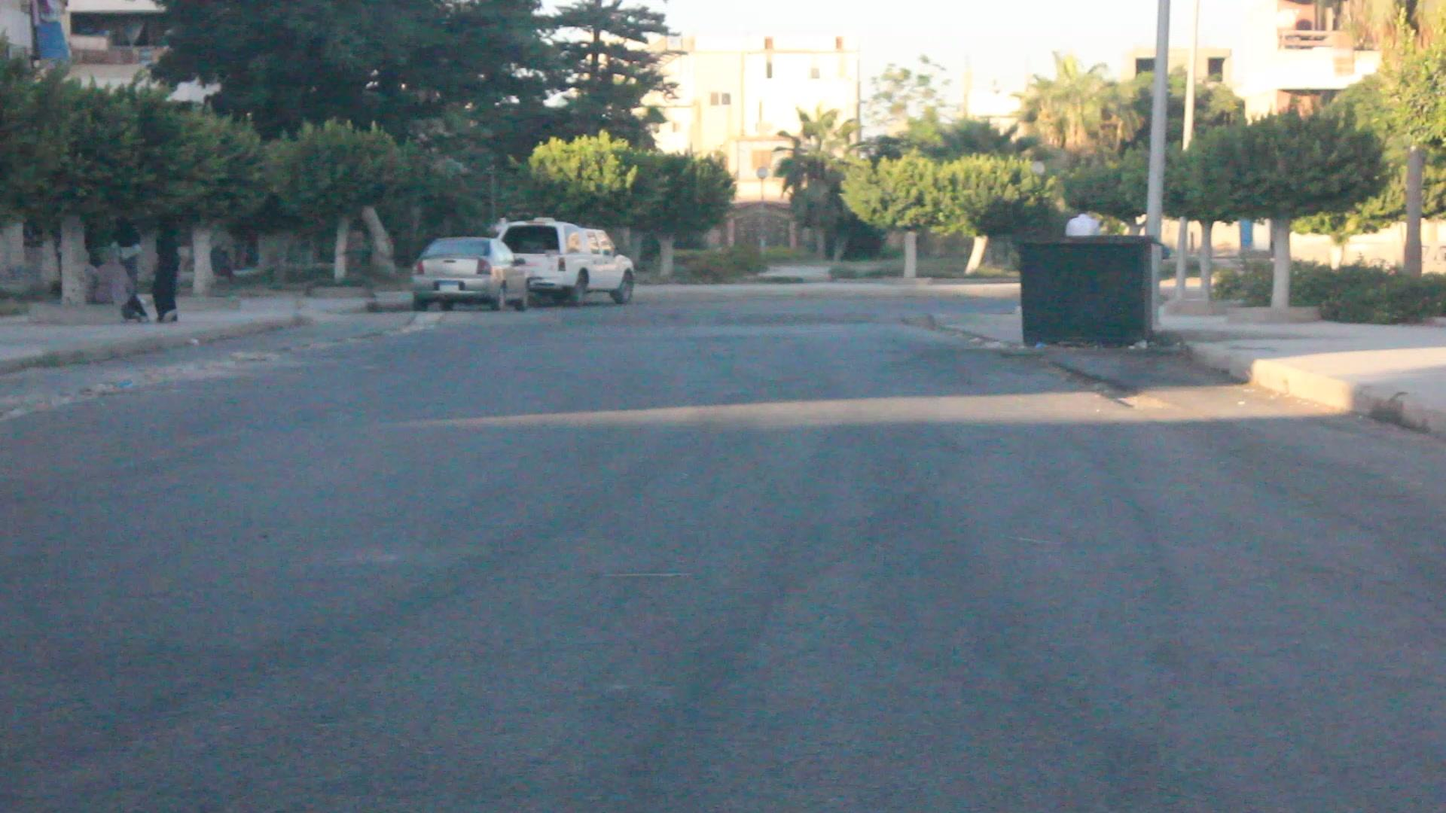Bump: (401, 311, 936, 326)
